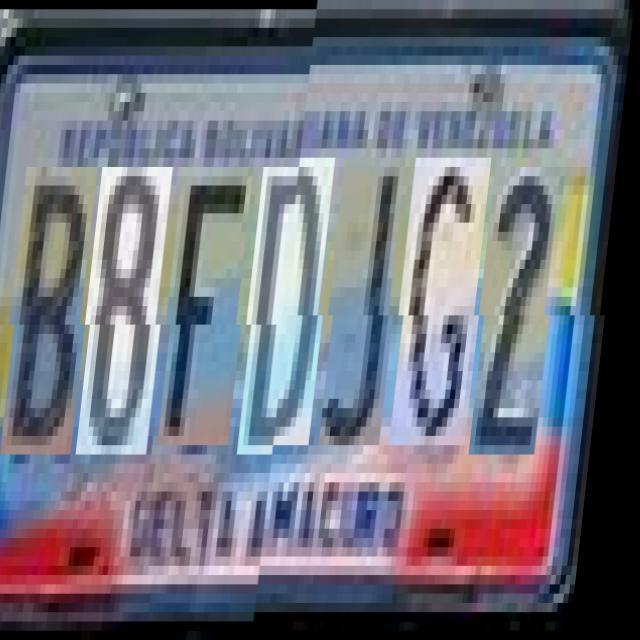2: (478, 176, 570, 464)
8: (86, 166, 182, 454)
B: (10, 166, 106, 454)
D: (248, 166, 344, 454)
F: (168, 167, 262, 446)
G: (398, 166, 499, 454)
J: (328, 166, 414, 454)
